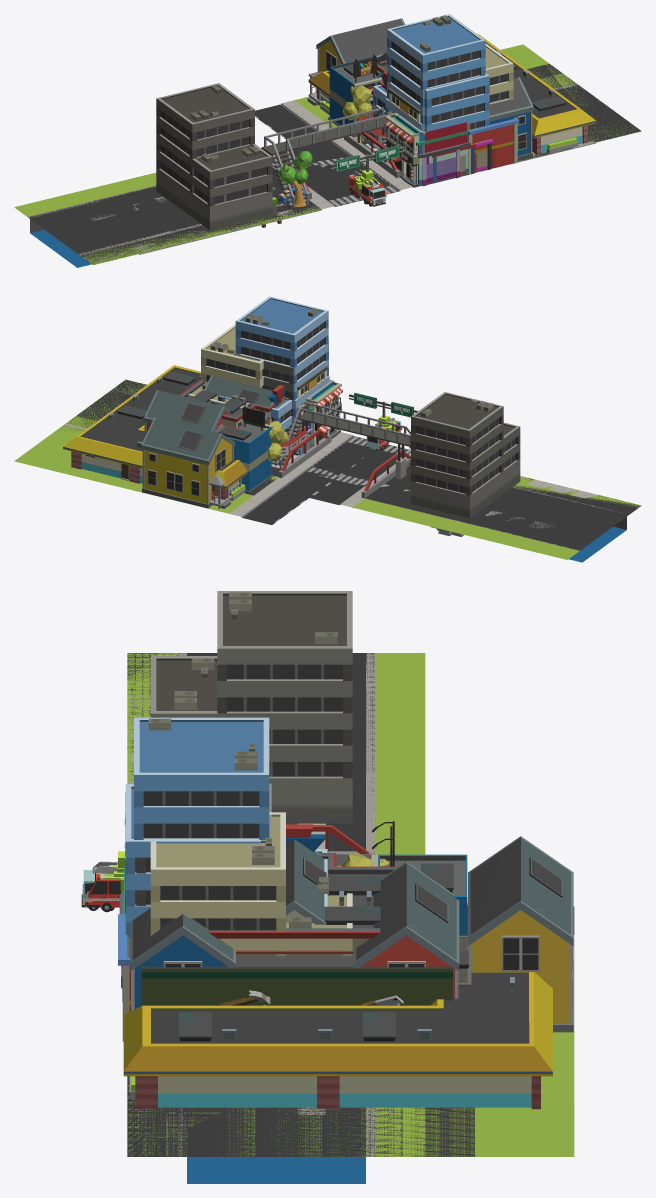
Rendered from city.glb.
3 renders of one model, top to bottom at view 1: azimuth 30°, elevation 25°; view 2: azimuth 150°, elevation 25°; view 3: azimuth 270°, elevation 25°, orthographic. The views are drawn at different scales.
Visible parts, largest first — view 1: Building_OfficeStepped_Grey, road_square_mesh (×5), Building_OfficeLarge_Blue, Building_Mall, Building_OfficeStepped_Blue, grass_square_mesh (3) (×2), SM_Env_Stair_Walkway_01, Building_House_02, Road_Corner_Crossing, Building_House_01, Building_Shop_05, Env_Car_Bridge_02 (+21 smaller); view 2: Building_OfficeStepped_Grey, road_square_mesh (×3), Building_Mall, Building_House_02, grass_square_mesh (3) (×2), Building_OfficeLarge_Blue, Env_Car_Bridge_02, SM_Env_Stair_Walkway_01, Building_OfficeStepped_Brown, Road_Corner_Crossing, Building_Shop_01, Building_House_03 (+14 smaller); view 3: Building_Mall, Building_OfficeStepped_Grey, road_square_mesh (×6), grass_square_mesh (3) (×2), Building_Cinema, Building_OfficeLarge_Blue, Building_OfficeStepped_Brown, Building_House_02, Building_House_03, Env_Canal_Straight (1), Building_House_01, Building_OfficeStepped_Blue (+7 smaller).
Boxes of the visible parts, x1,y1,x2,y2 form: Building_OfficeStepped_Grey: (156,83,277,230); road_square_mesh (×5): (28,63,640,264); Building_OfficeLarge_Blue: (387,14,485,130); Building_Mall: (308,34,596,154); Building_OfficeStepped_Blue: (369,73,489,149); grass_square_mesh (3) (×2): (14,44,636,216); SM_Env_Stair_Walkway_01: (262,107,394,207); Building_House_02: (307,18,405,105); Road_Corner_Crossing: (305,151,412,209); Building_House_01: (489,77,533,160); Building_Shop_05: (468,117,519,174); Env_Car_Bridge_02: (265,132,399,199); Building_OfficeStepped_Grey: (411,392,520,518); road_square_mesh (×3): (77,379,641,550); Building_Mall: (63,365,247,500); Building_House_02: (141,417,241,508); grass_square_mesh (3) (×2): (14,380,579,559); Building_OfficeLarge_Blue: (235,296,328,448); Env_Car_Bridge_02: (278,430,410,498); SM_Env_Stair_Walkway_01: (278,402,410,479); Building_OfficeStepped_Brown: (188,324,263,408); Road_Corner_Crossing: (294,432,410,485); Building_Shop_01: (210,420,273,493); Building_House_03: (143,390,230,435); Building_Mall: (123,902,552,1109); Building_OfficeStepped_Grey: (150,591,352,823); road_square_mesh (×6): (127,653,474,1156); grass_square_mesh (3) (×2): (143,653,574,1156); Building_Cinema: (141,824,452,1005); Building_OfficeLarge_Blue: (134,717,269,839); Building_OfficeStepped_Brown: (150,812,352,956); Building_House_02: (468,836,573,1032); Building_House_03: (353,861,459,998); Env_Canal_Straight (1): (177,1107,375,1183); Building_House_01: (130,908,235,1010); Building_OfficeStepped_Blue: (125,784,327,937).
Size of the model in its own units: 120 by 31.38 by 49.62.
Materials: 41 (34 with a texture image).
